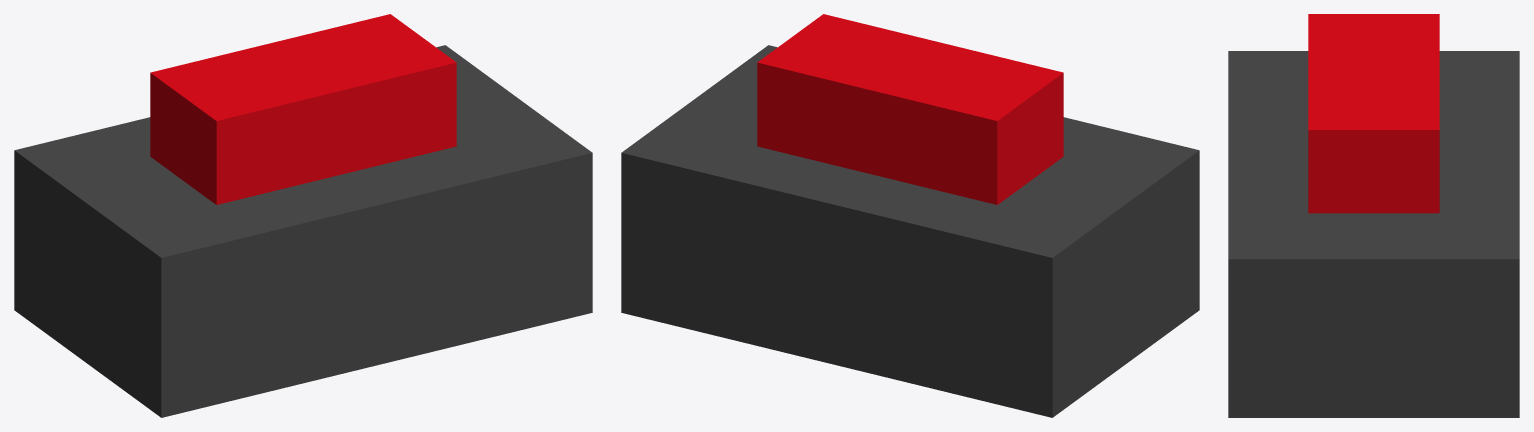
Rendered from button.fbx.
The picture shows the model from 3 angles, left to right: view 1: azimuth 30°, elevation 25°; view 2: azimuth 150°, elevation 25°; view 3: azimuth 270°, elevation 25°; orthographic projection.
Parts seen in each view (by area): view 1: Cube, Cube.001; view 2: Cube, Cube.001; view 3: Cube, Cube.001.
Boxes of the visible parts, box(x1,y1,x2,y2) form: Cube: box(14, 45, 592, 417); Cube.001: box(150, 14, 456, 204); Cube: box(621, 45, 1199, 417); Cube.001: box(757, 14, 1063, 204); Cube: box(1228, 51, 1519, 417); Cube.001: box(1308, 14, 1439, 213).
Bounding box in the file's own units: 423 × 229 × 250.
